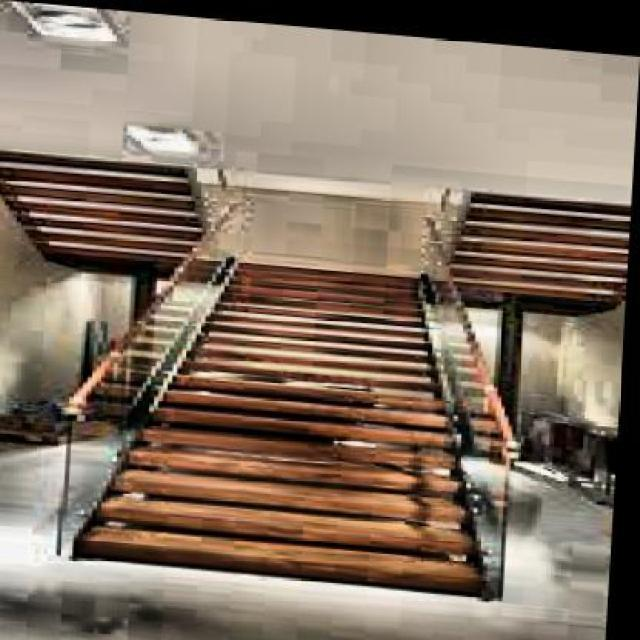stair: (113, 244, 496, 598)
